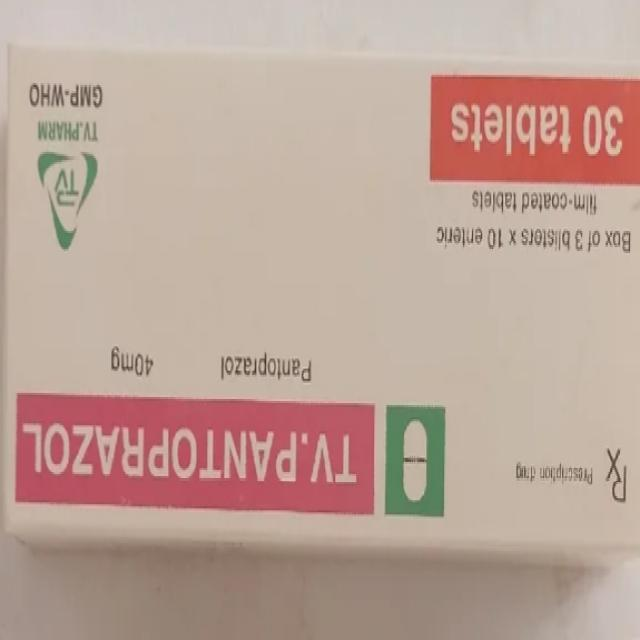drug-name: (20, 414, 366, 486)
